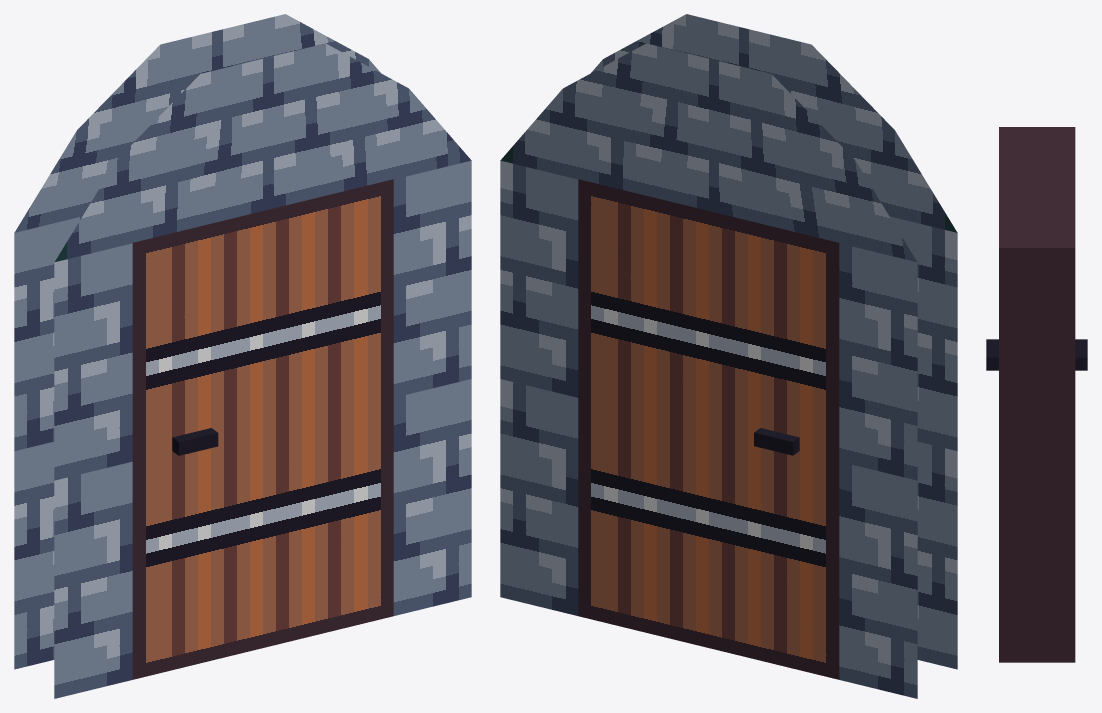
The model's file is door.glb.
The picture shows the model from 3 angles, left to right: view 1: azimuth 30°, elevation 25°; view 2: azimuth 150°, elevation 25°; view 3: azimuth 270°, elevation 25°; orthographic projection. The views are drawn at different scales.
Parts seen in each view (by area): view 1: Door-Enclosure-col, Door; view 2: Door-Enclosure-col, Door; view 3: Door.
Boxes of the visible parts, <box> form: Door-Enclosure-col: <box>14,14,471,698</box>; Door: <box>132,179,393,679</box>; Door-Enclosure-col: <box>500,14,957,698</box>; Door: <box>578,179,839,679</box>; Door: <box>986,127,1087,662</box>.
Bounding box in the file's own units: 2.02 × 2.73 × 0.4463.
1 material, 1 textured.
